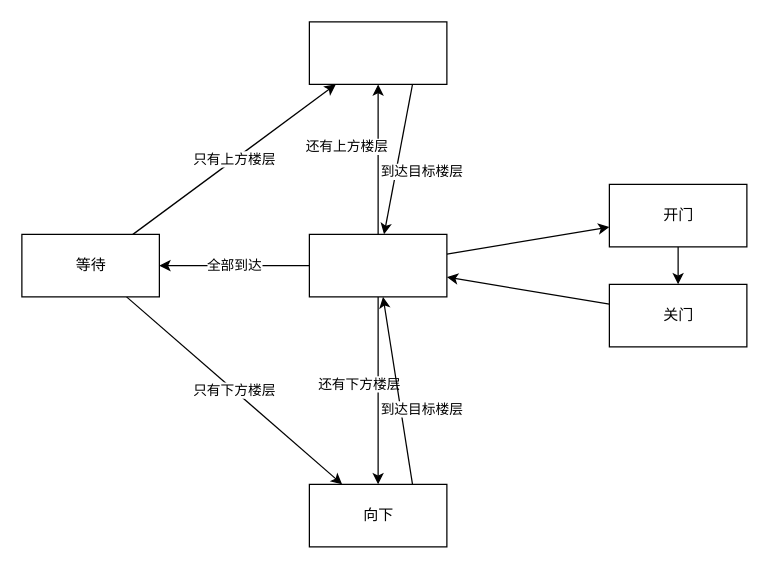
Image size: 769x569. Some labels were removed from this diagram. Here are the shapes that lost their labels. From the top down, the box of each, then its label:
(308, 21, 447, 84): 向上
(308, 233, 447, 297): 停下
